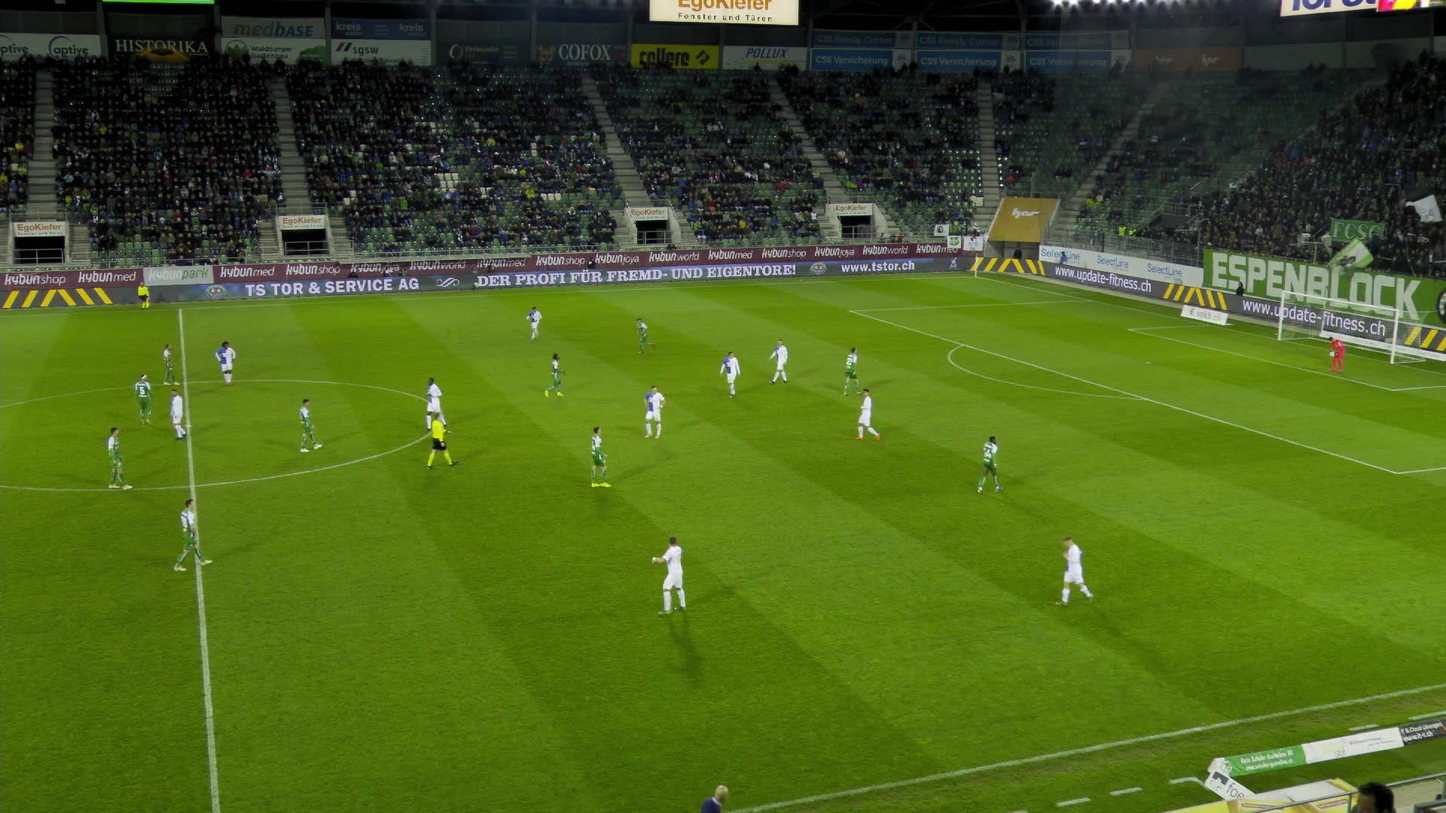ball: (1329, 351, 1334, 355)
player: (649, 536, 692, 613), (1057, 538, 1093, 609), (178, 497, 208, 569), (587, 427, 618, 489), (978, 434, 1006, 493), (107, 426, 131, 490), (168, 389, 194, 440), (641, 386, 665, 438), (856, 388, 879, 441), (297, 397, 319, 452), (719, 352, 743, 400), (134, 375, 154, 431), (426, 378, 447, 429), (215, 340, 237, 385), (843, 346, 862, 395), (769, 339, 789, 385), (545, 352, 565, 397), (633, 317, 654, 352), (525, 304, 544, 340), (162, 343, 178, 385), (1328, 336, 1345, 371)
referee: (427, 412, 453, 469), (136, 280, 151, 310)
